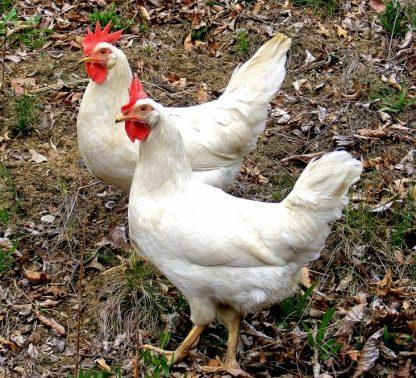Healthy: (105, 72, 363, 369)
